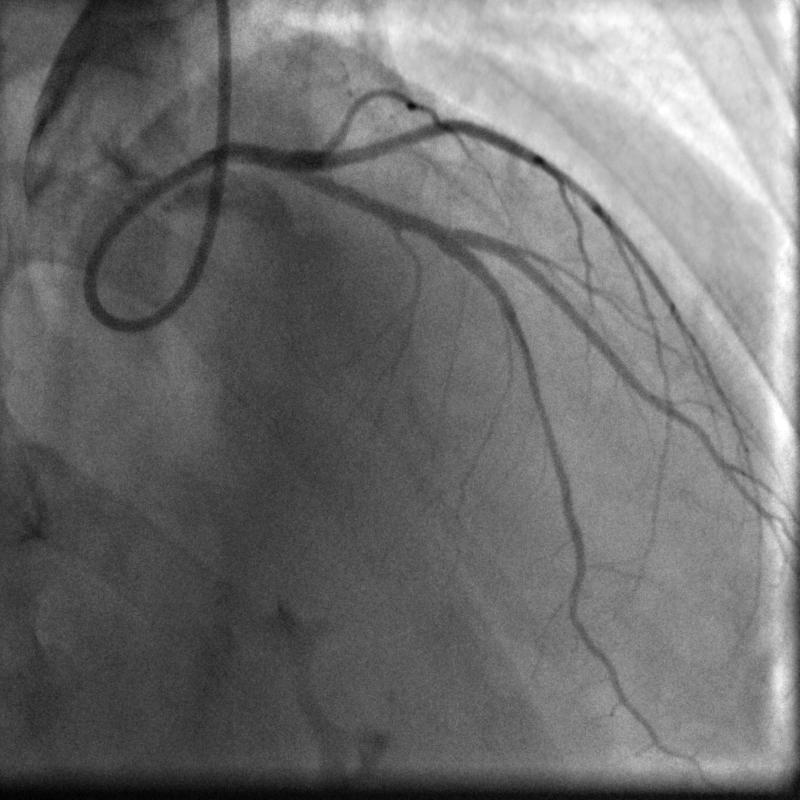Stenosis: (415, 212, 443, 247)
